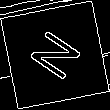N_SE: (22, 24, 88, 86)
